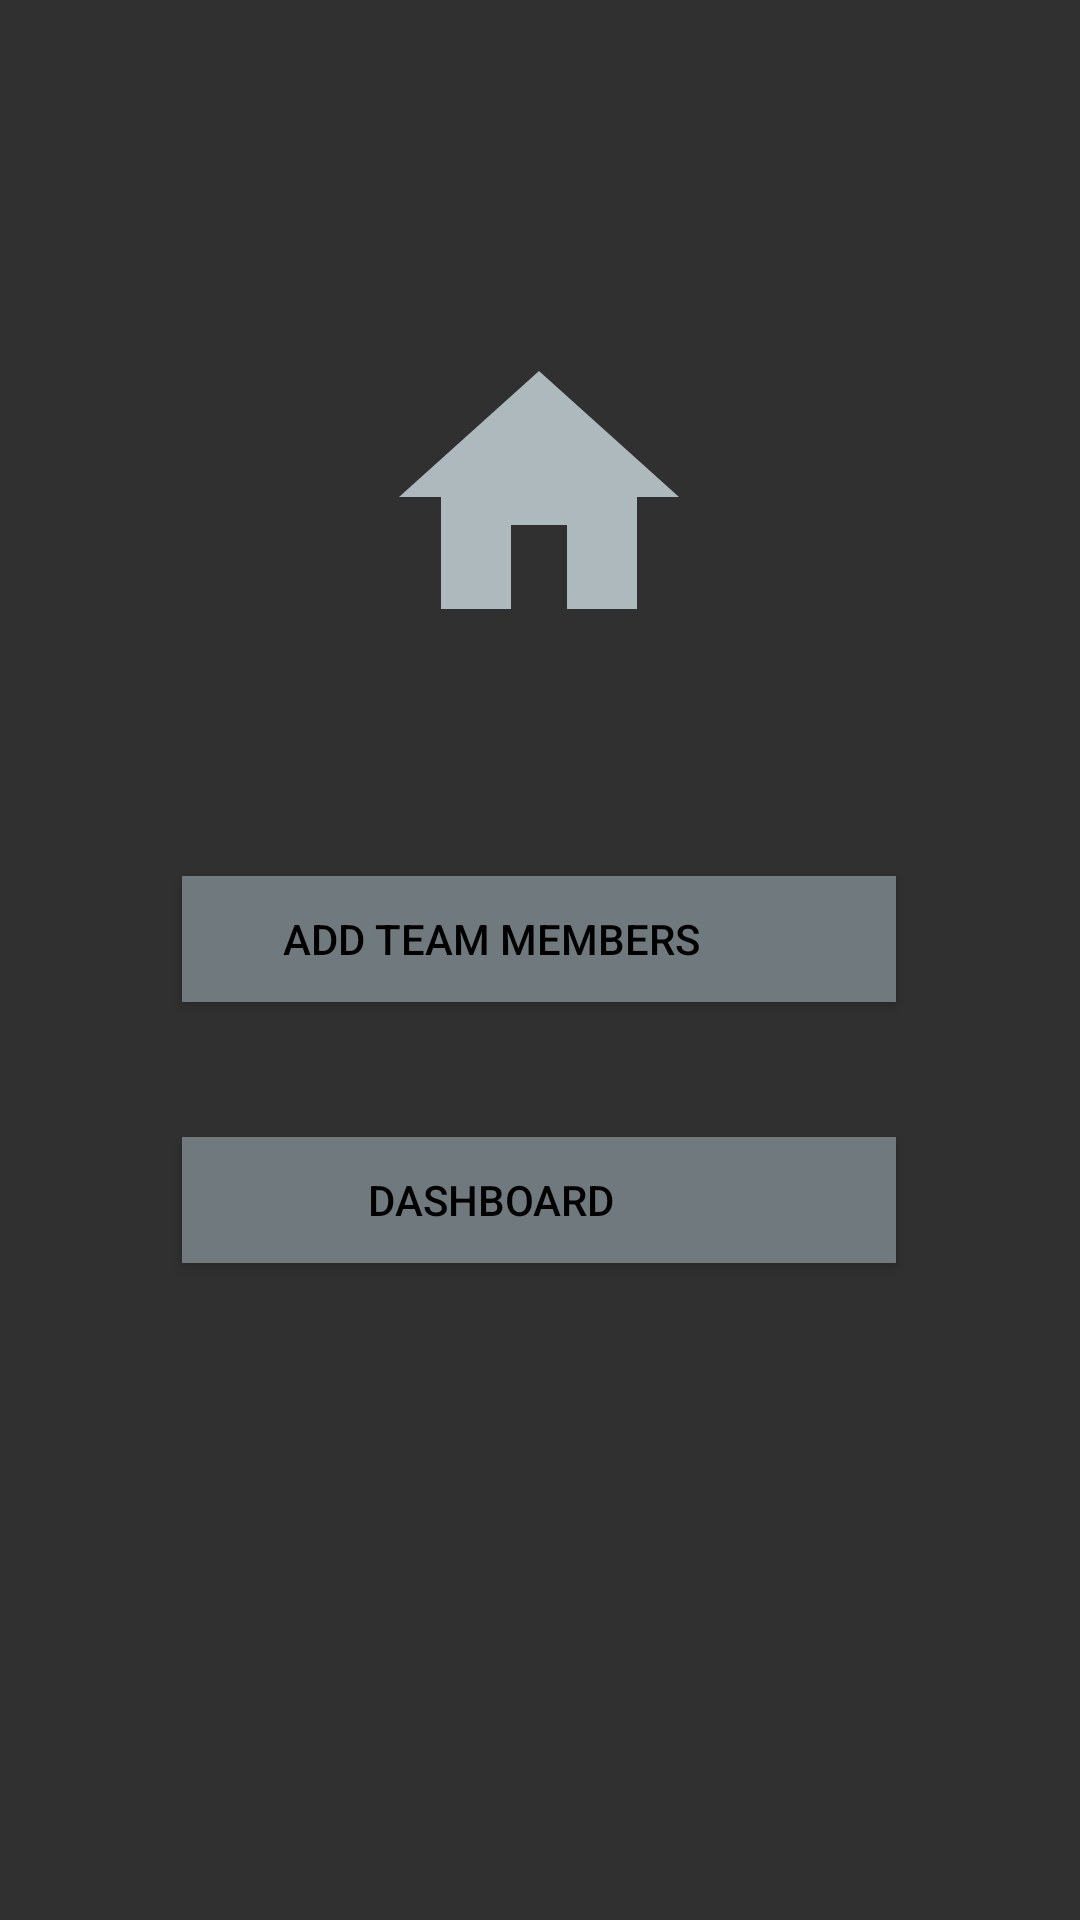

Screen size 1080x1920. Icon name, then its box in pixels as (left=x1, top=y1, right=x2, bottom=y2):
home: (left=399, top=371, right=679, bottom=609)
